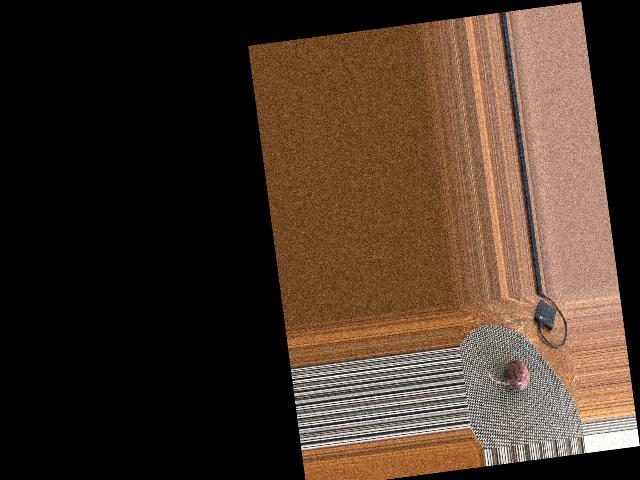beet: (486, 358, 530, 394)
